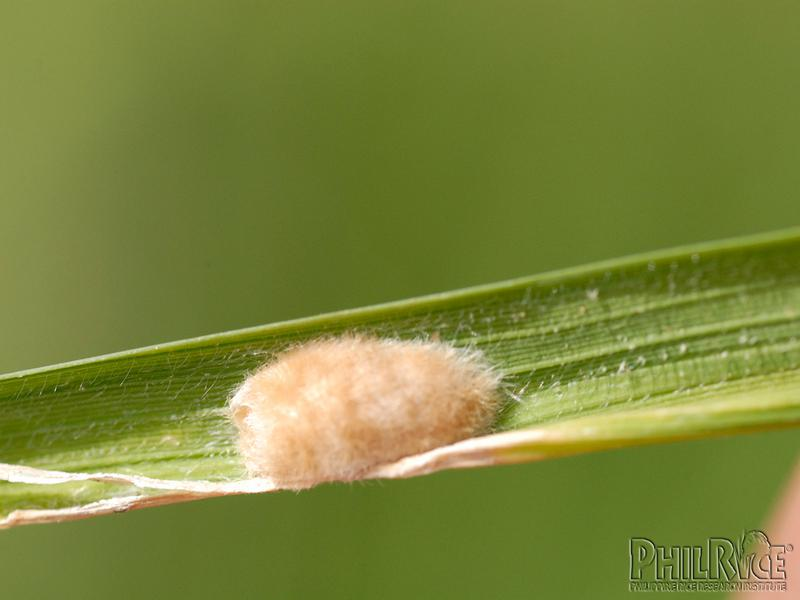Rice_skipper: (207, 324, 525, 492)
